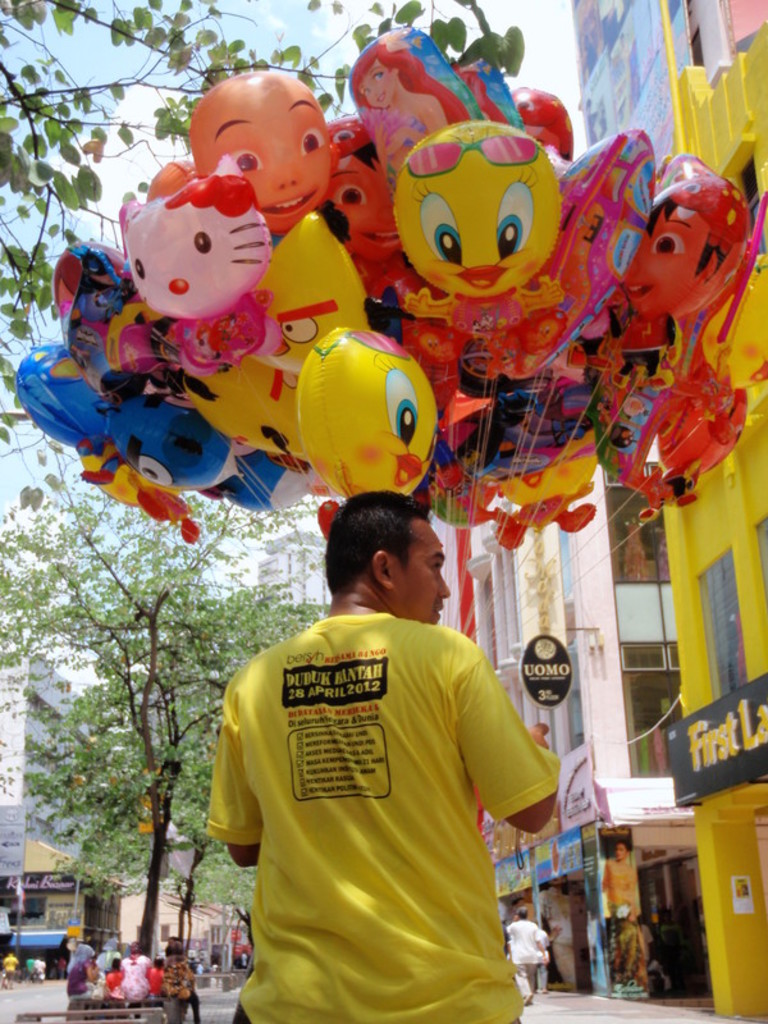Person: (0, 489, 644, 1023)
